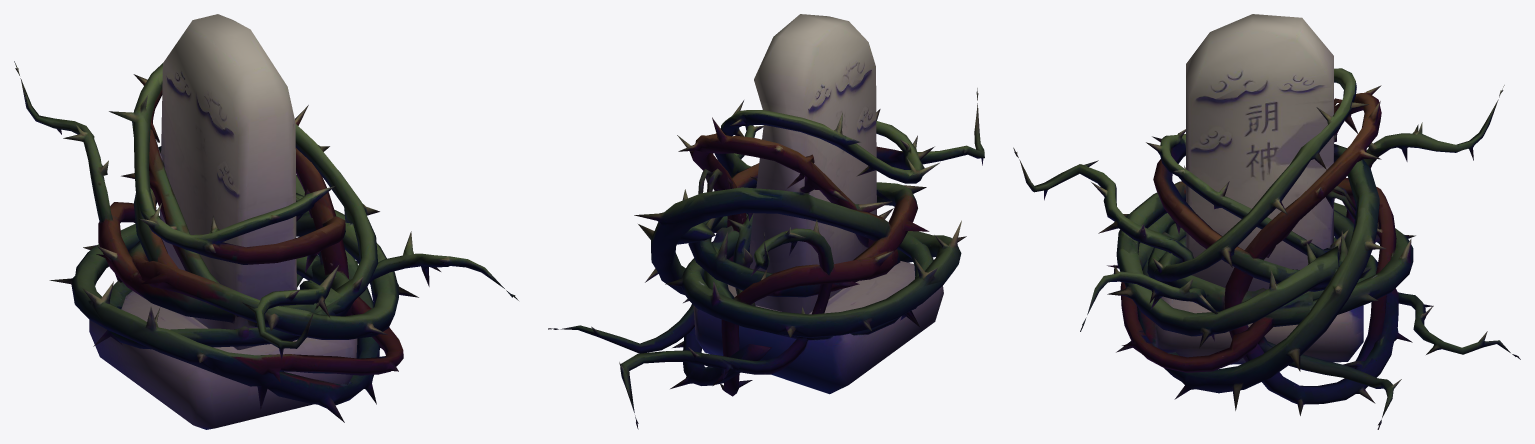
The model's file is wood_restrain_t2.glb.
3 views of the same model, side by side, from view 1: azimuth 30°, elevation 25°; view 2: azimuth 150°, elevation 25°; view 3: azimuth 270°, elevation 25° (orthographic). The views are drawn at different scales.
Parts seen in each view (by area): view 1: tripo_node_0b568cf0-43ad-45f7-93f4-655993566a7d; view 2: tripo_node_0b568cf0-43ad-45f7-93f4-655993566a7d; view 3: tripo_node_0b568cf0-43ad-45f7-93f4-655993566a7d.
Part boxes in pixels (box(x1,y1,x2,y2)): tripo_node_0b568cf0-43ad-45f7-93f4-655993566a7d: box(14, 14, 518, 429); tripo_node_0b568cf0-43ad-45f7-93f4-655993566a7d: box(548, 14, 984, 429); tripo_node_0b568cf0-43ad-45f7-93f4-655993566a7d: box(1013, 14, 1520, 429).
Size of the model in its own units: 0.752 by 0.752 by 0.998.
1 material, 1 textured.
